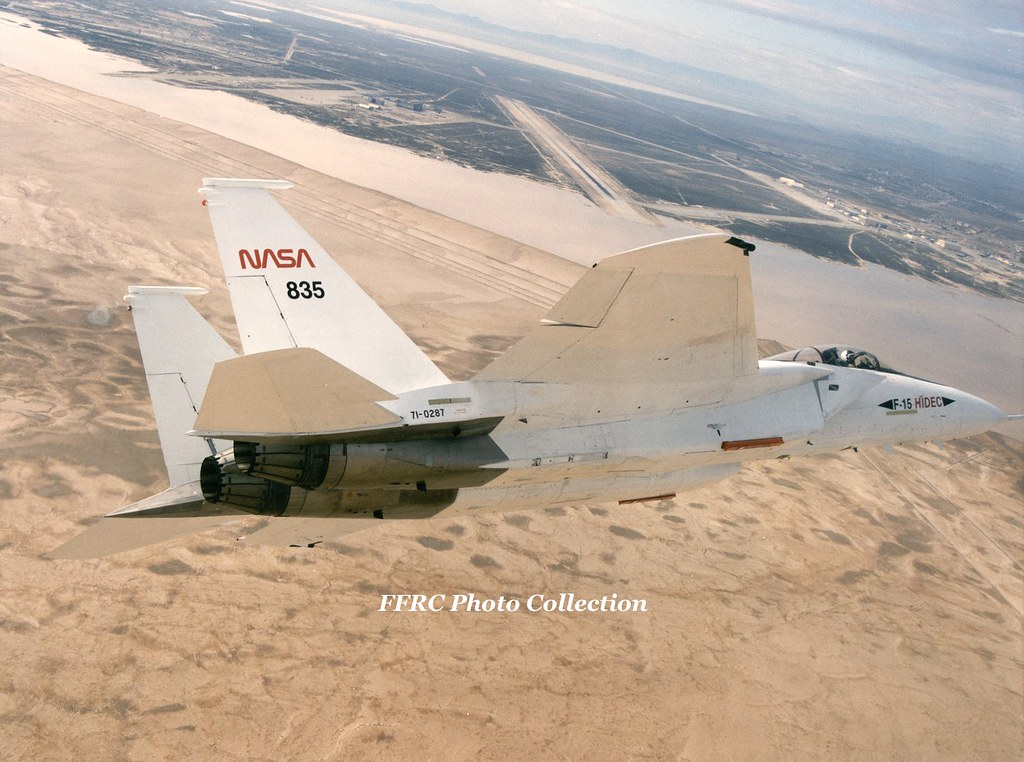airplane: (41, 177, 1024, 560)
